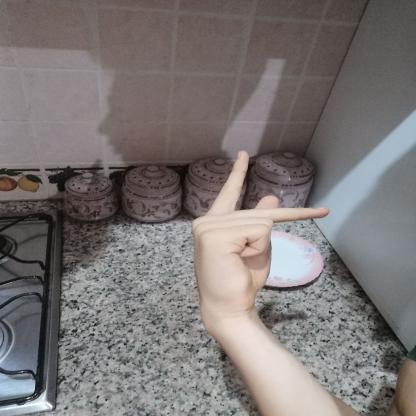DHAA: (175, 143, 337, 323)
